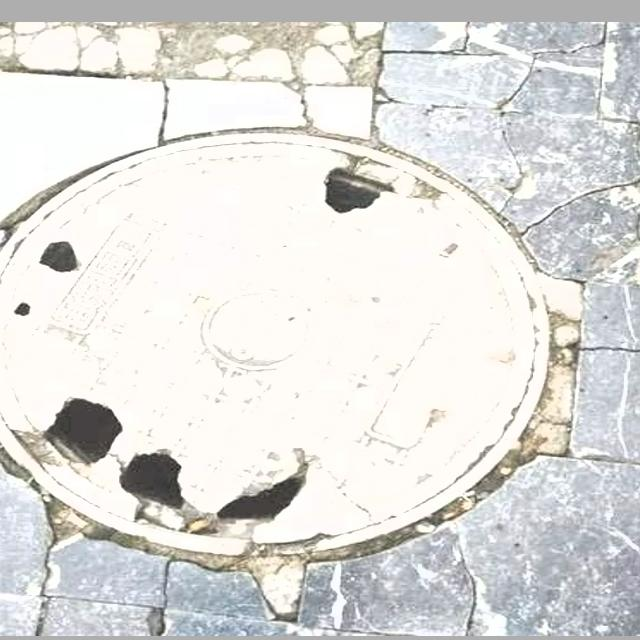broke: (0, 132, 551, 557)
